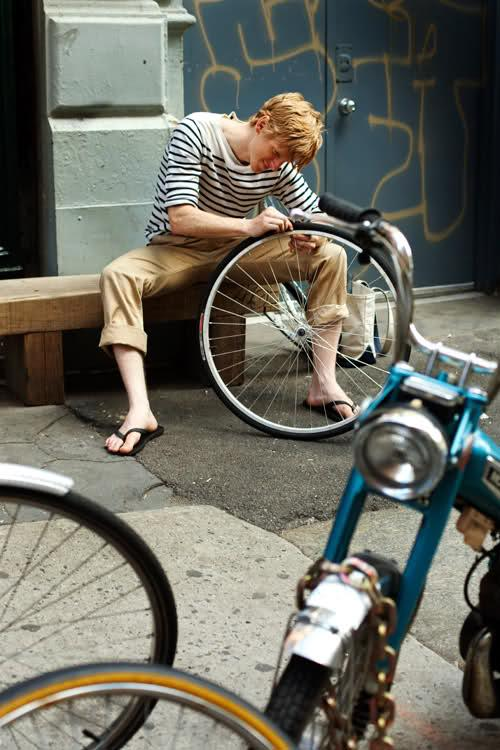person: (97, 87, 363, 460)
